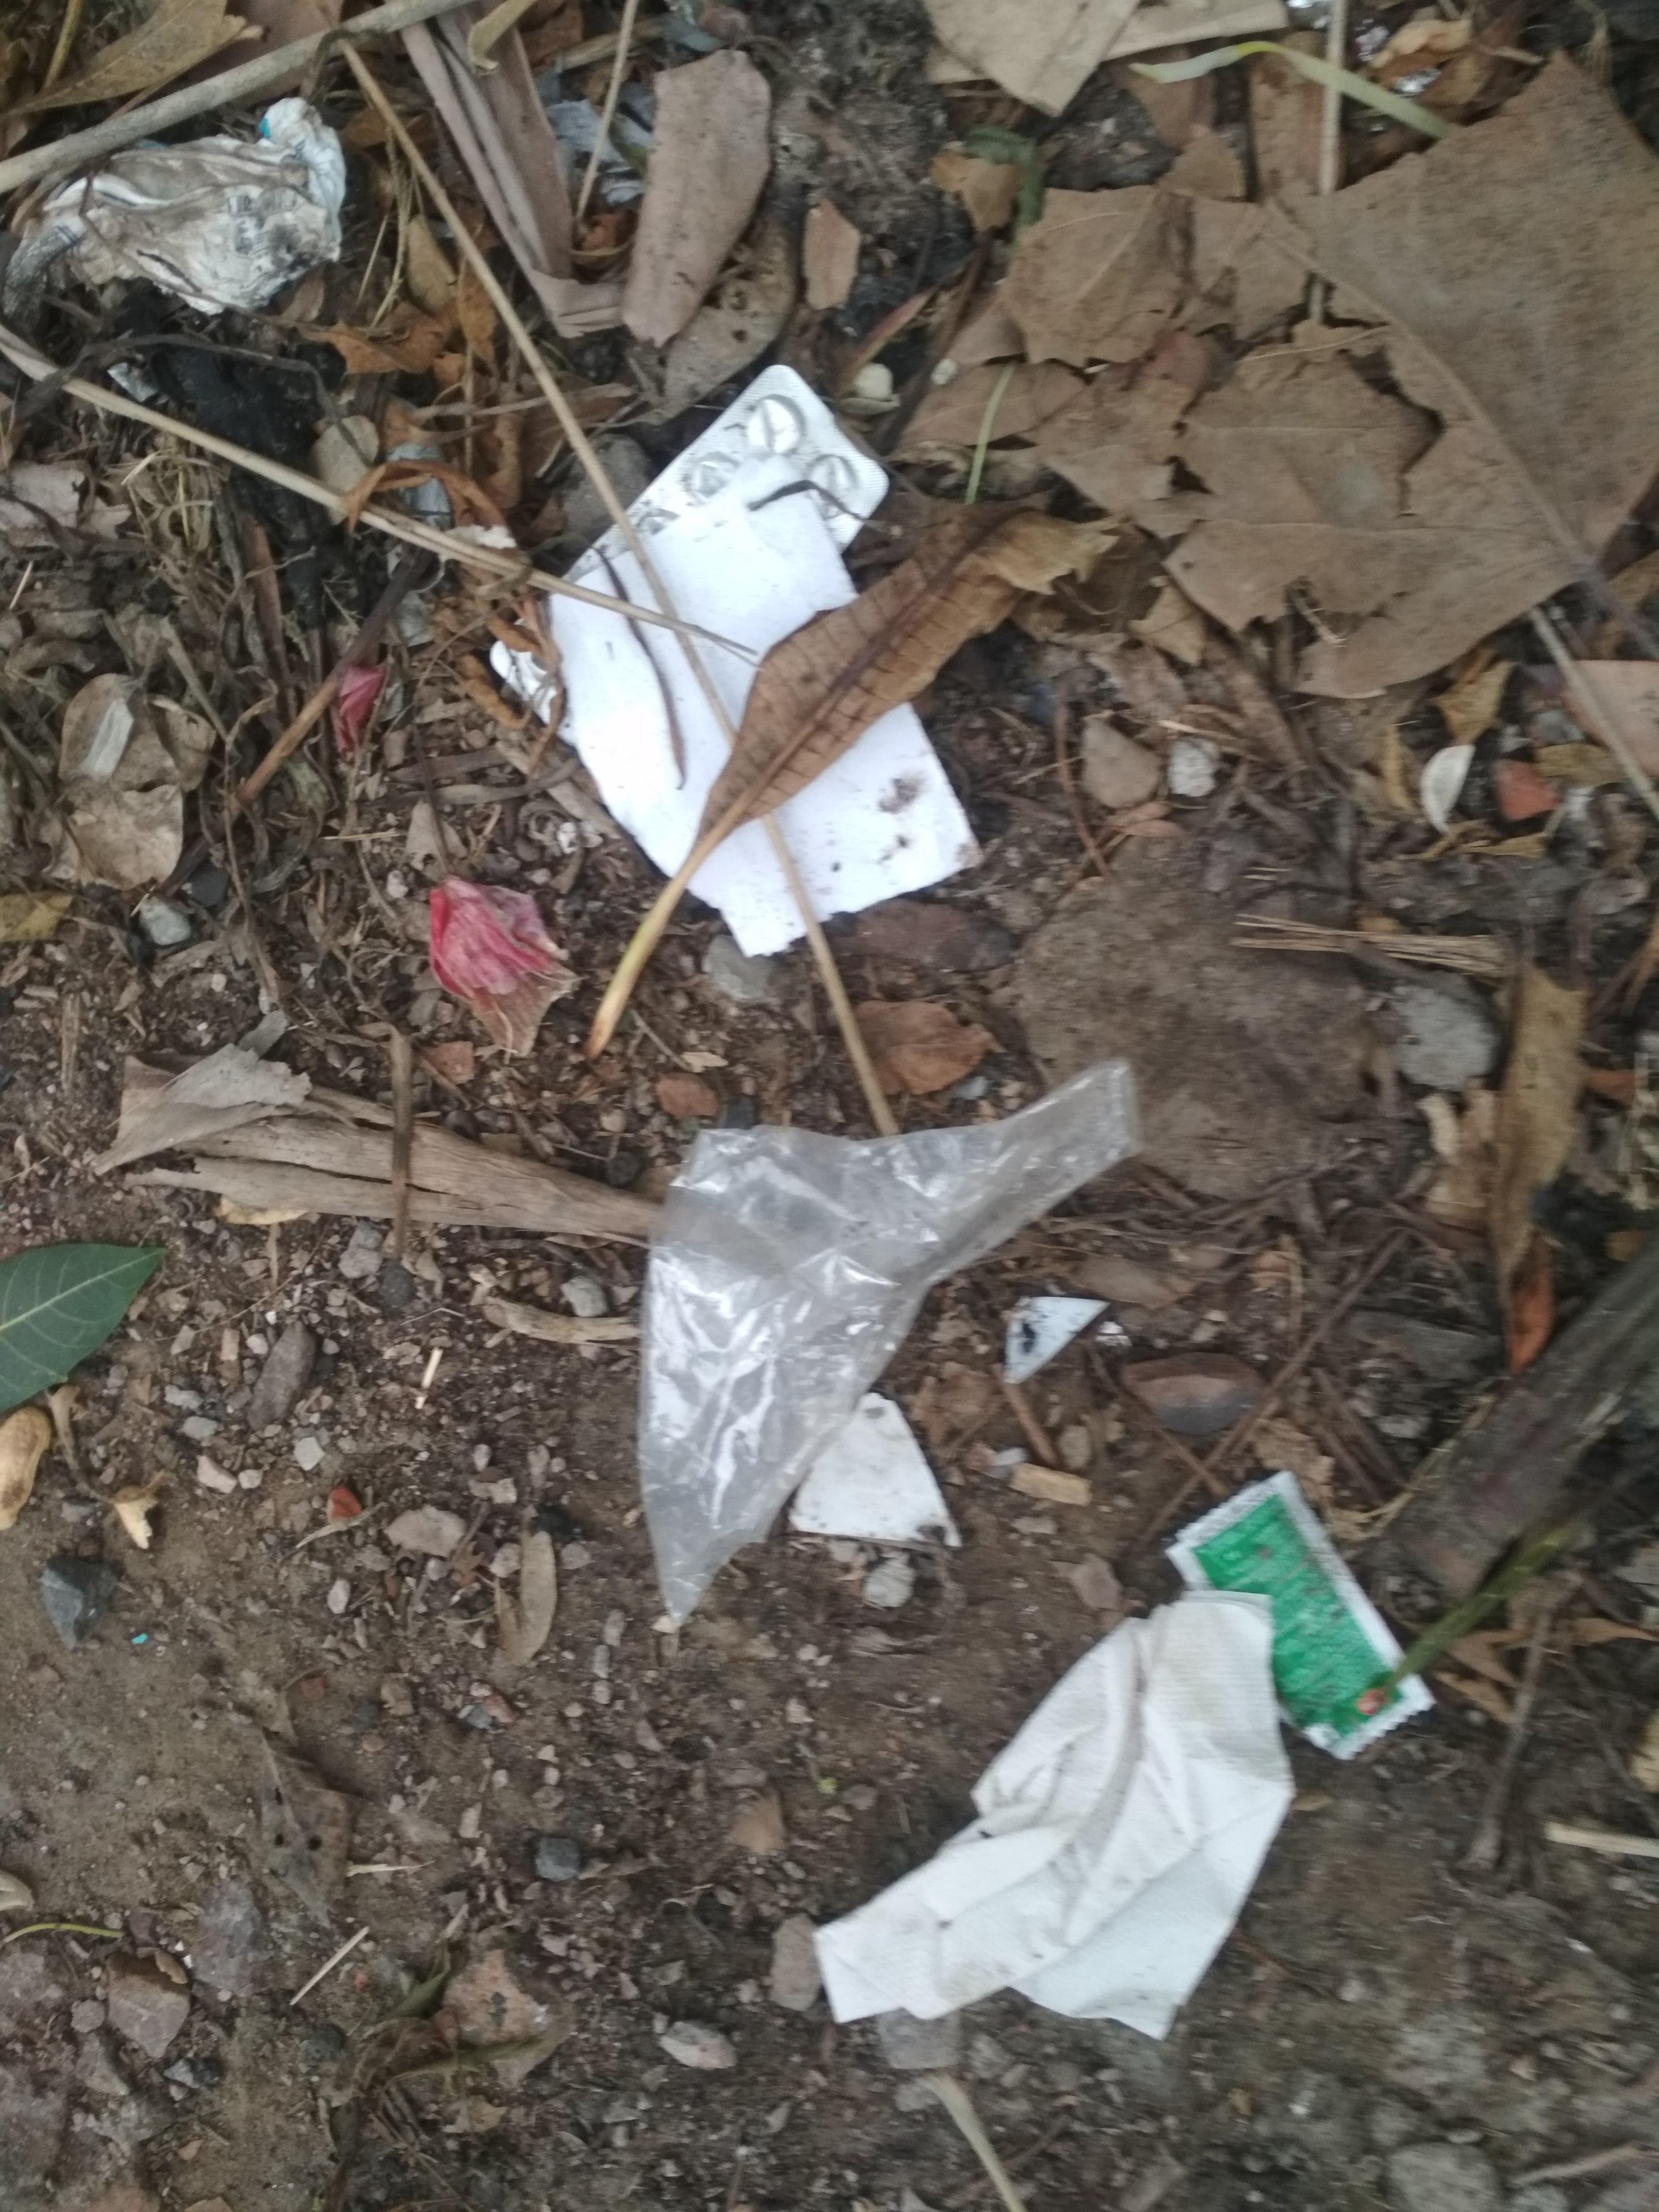trash: (479, 355, 1452, 2064)
